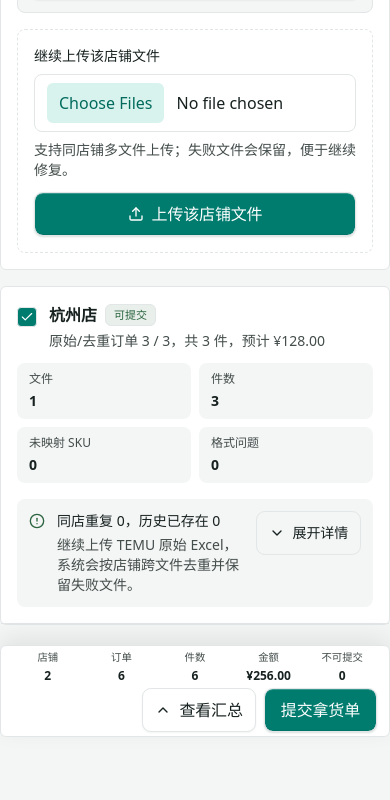
Test: BulkOrderWorkspace › lets operators manually collapse and reopen submittable groups
The width and height of the screenshot is (390, 800).
(page scrolled)
Click the button "展开详情" at [308, 533], box [256, 511, 361, 555]
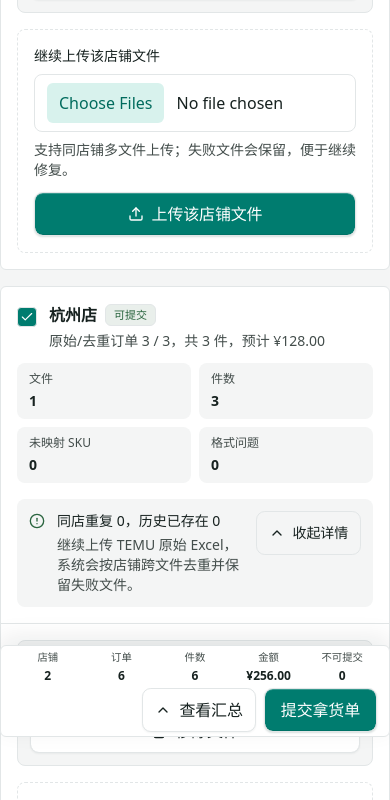
Result: the button "收起详情" is shown
Click the button "收起详情" at [308, 533], box [256, 511, 361, 555]
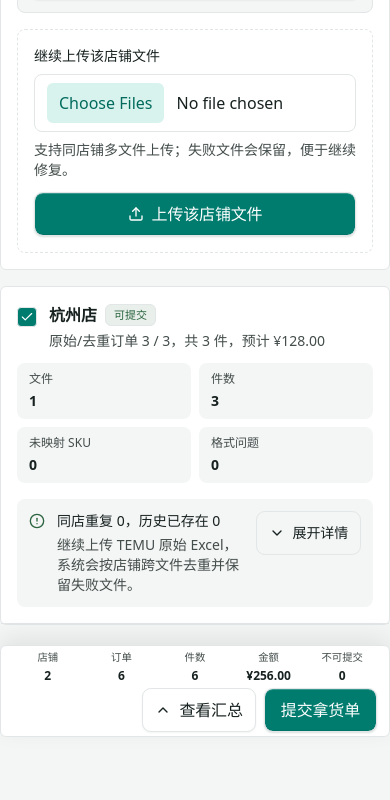
Result: the button "展开详情" is shown at [256, 511, 361, 555]
